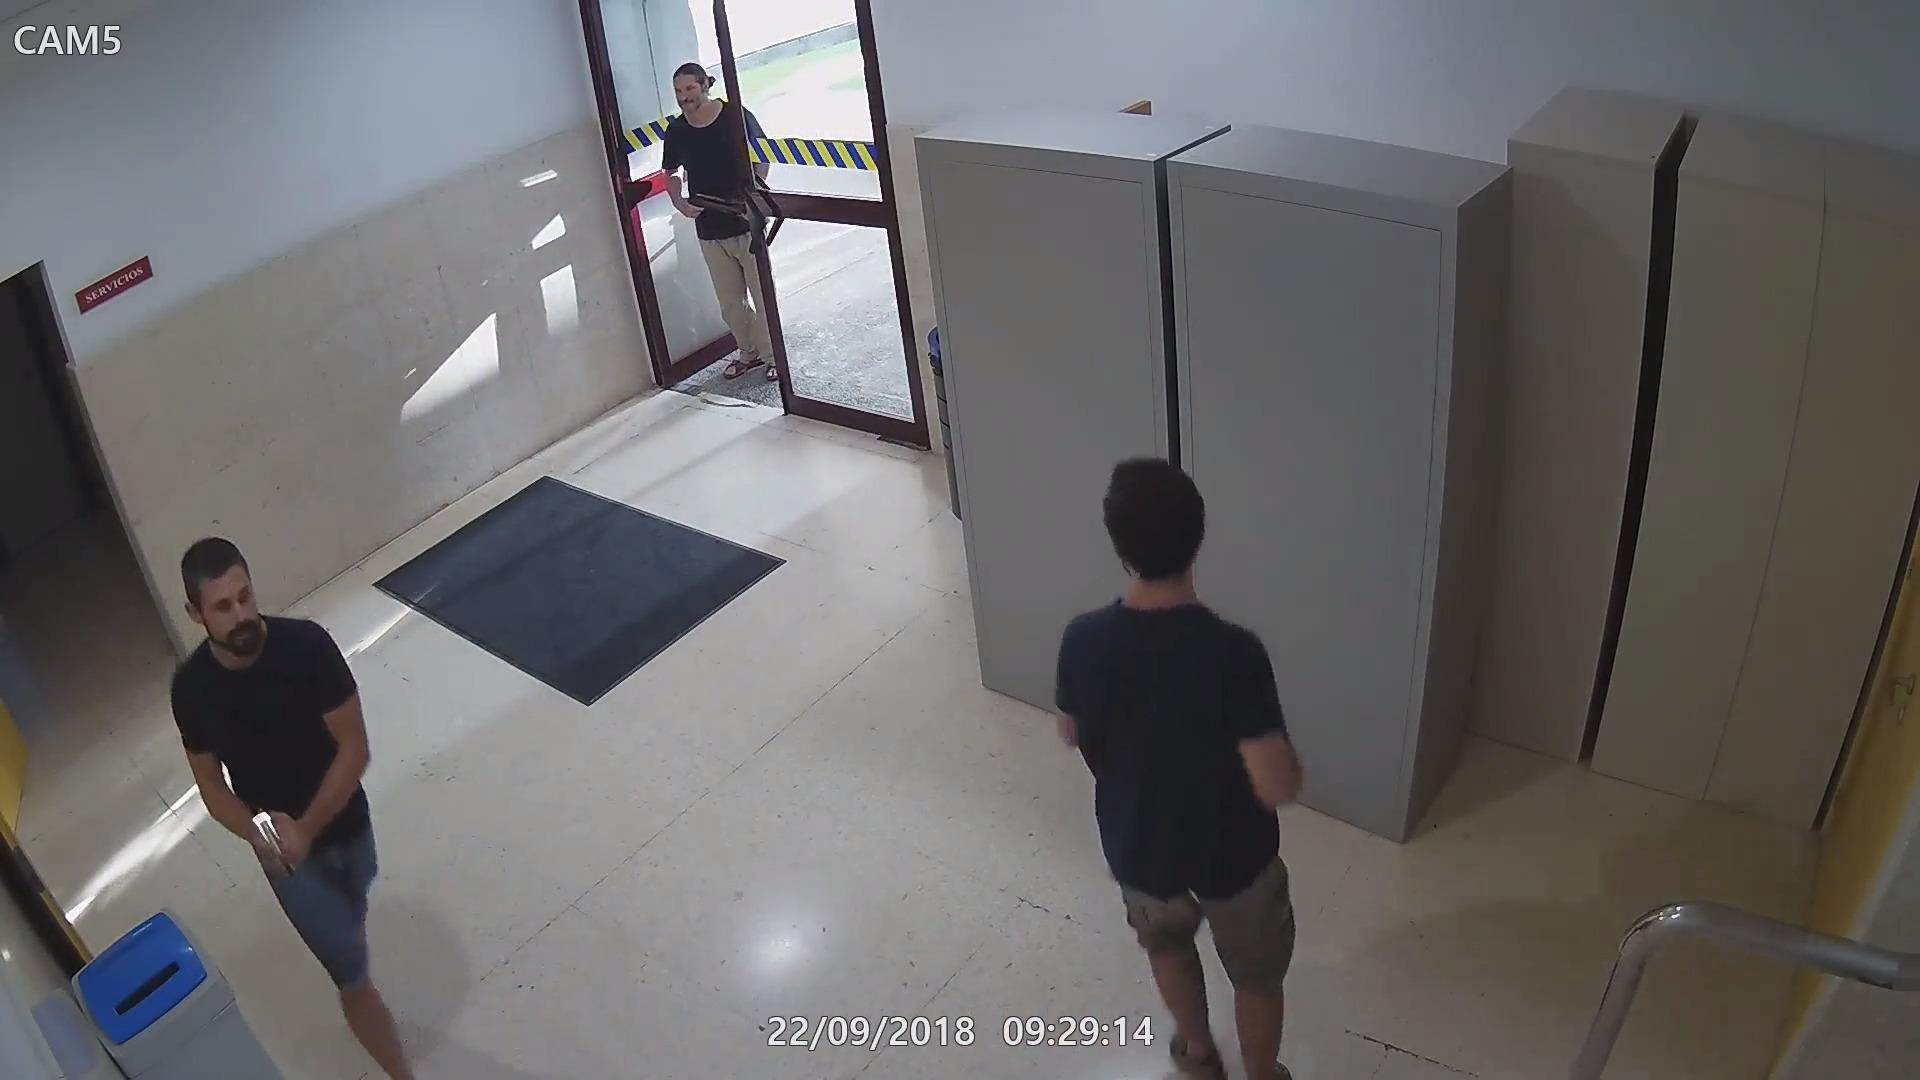Handgun: (237, 798, 299, 895)
